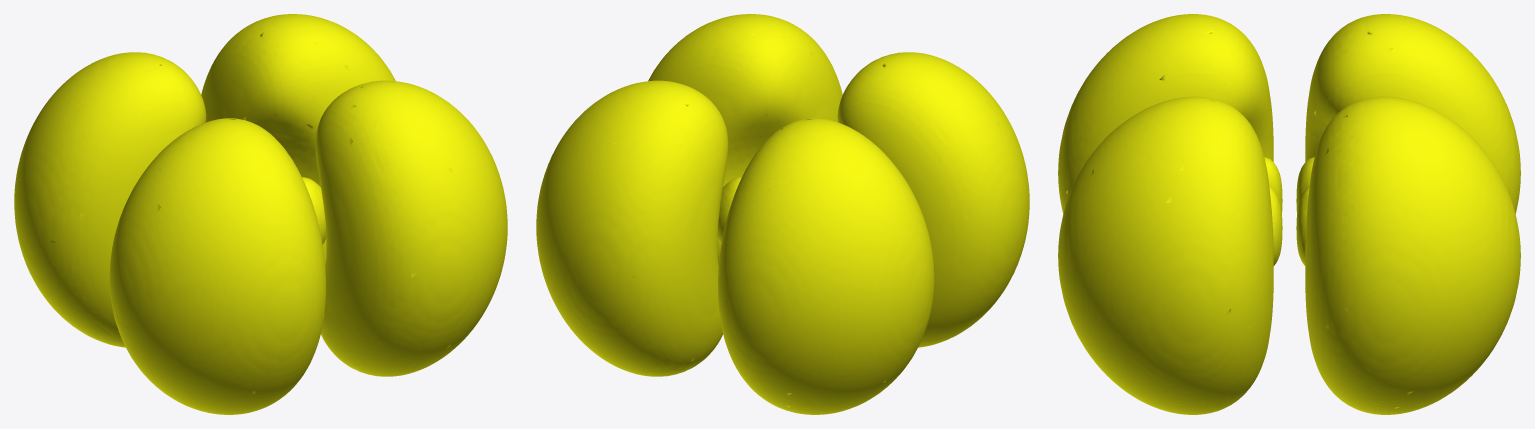
Rendered from orb_n=4_ l=2 _m=-2.fbx.
The picture shows the model from 3 angles, left to right: view 1: azimuth 30°, elevation 25°; view 2: azimuth 150°, elevation 25°; view 3: azimuth 270°, elevation 25°; orthographic projection. The views are drawn at different scales.
Parts seen in each view (by area): view 1: orb_n=4_ l=2 _m=-2; view 2: orb_n=4_ l=2 _m=-2; view 3: orb_n=4_ l=2 _m=-2.
Part boxes in pixels (x1,y1,x2,y2): orb_n=4_ l=2 _m=-2: (14,14,507,414); orb_n=4_ l=2 _m=-2: (536,14,1029,414); orb_n=4_ l=2 _m=-2: (1058,14,1520,414).
Size of the model in its own units: 6633 by 4776 by 6633.
